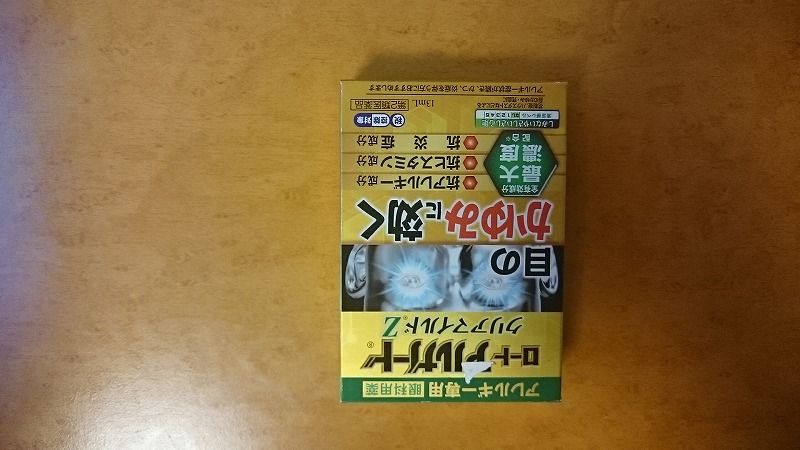C: (332, 67, 572, 418)
